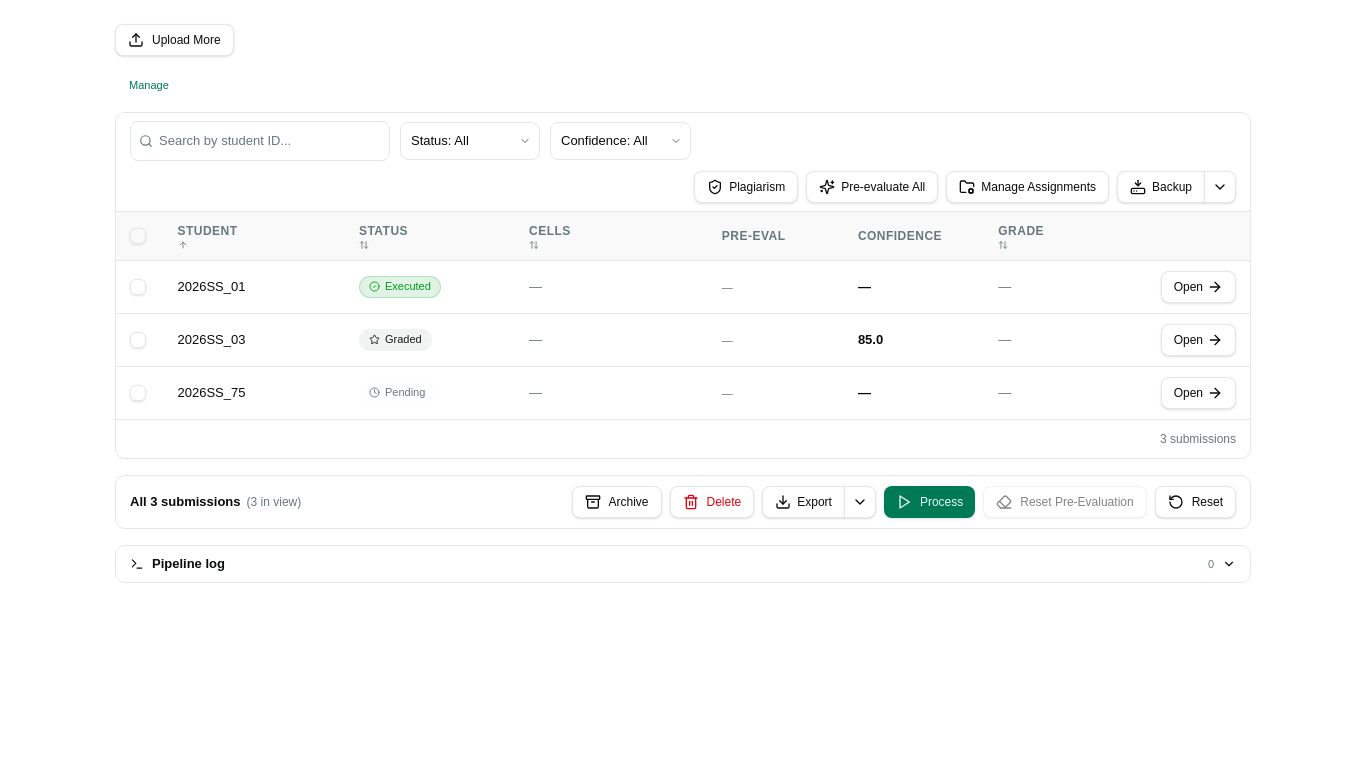
Test: submissions dashboard bulk bar › deletes the selection through the confirm dialog
Expected: the link "2026SS_01" is shown, [178, 279, 246, 294]
Click the checkbox named "Select 2026SS_01": (138, 287) [130, 279, 146, 295]
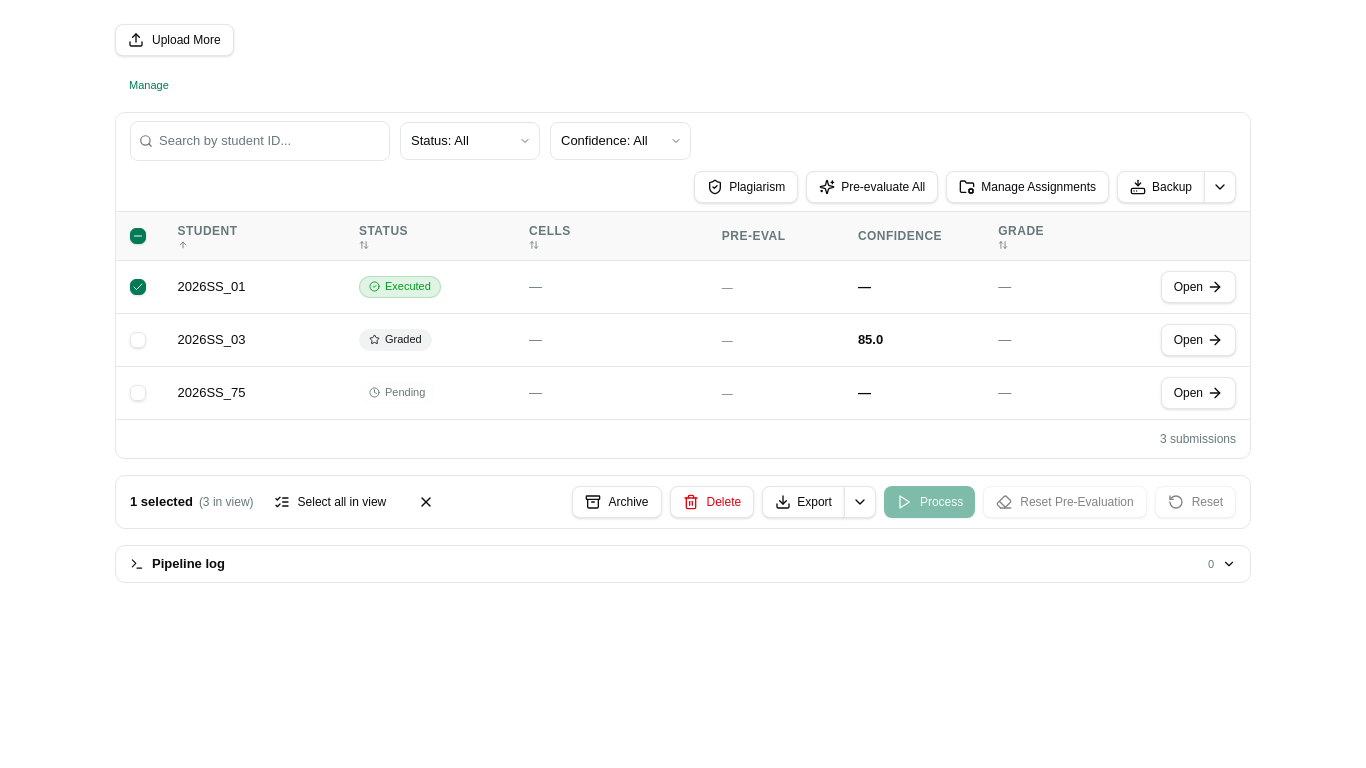
Click the button "Delete": (712, 502) [670, 486, 754, 518]
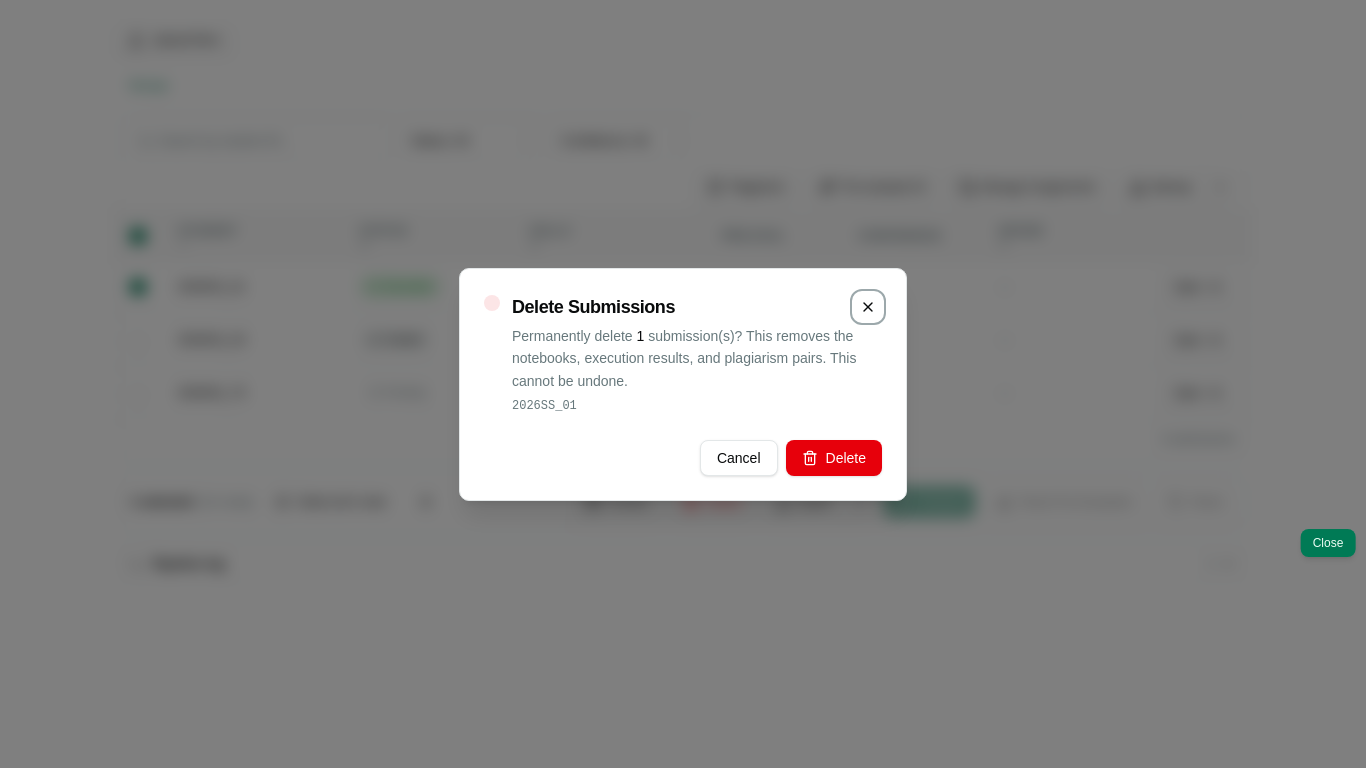
Now the heading "Delete Submissions" is shown, box [512, 292, 675, 320]
Click the button "Delete": (834, 458) [786, 440, 882, 476]
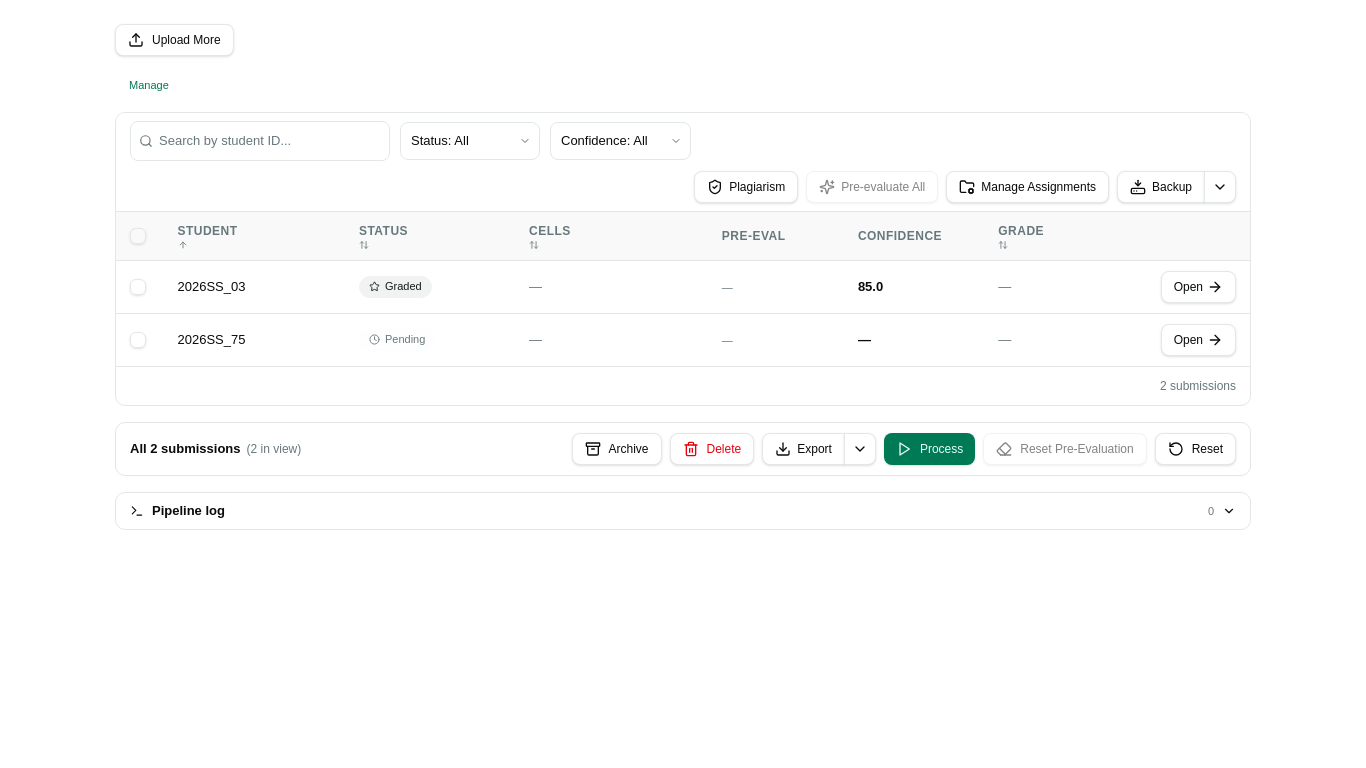
Now the link "2026SS_01" is gone
